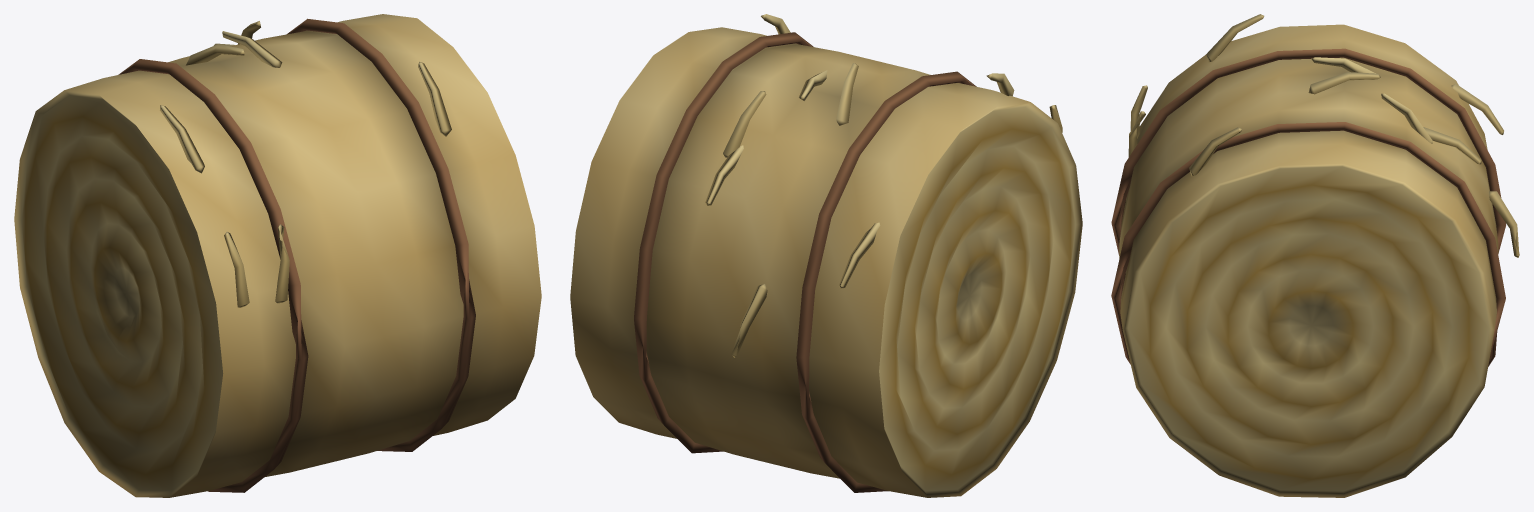
File: rg-maple-bale-v0.glb
The picture shows the model from 3 angles, left to right: view 1: azimuth 30°, elevation 25°; view 2: azimuth 150°, elevation 25°; view 3: azimuth 270°, elevation 25°; orthographic projection. The views are drawn at different scales.
Parts seen in each view (by area): view 1: body; view 2: body; view 3: body.
Boxes of the visible parts, left/top/right/bottom form: body: left=14, top=14, right=541, bottom=497; body: left=570, top=14, right=1082, bottom=497; body: left=1111, top=14, right=1519, bottom=497.
Size of the model in its own units: 0.9709 by 1.18 by 1.19.
